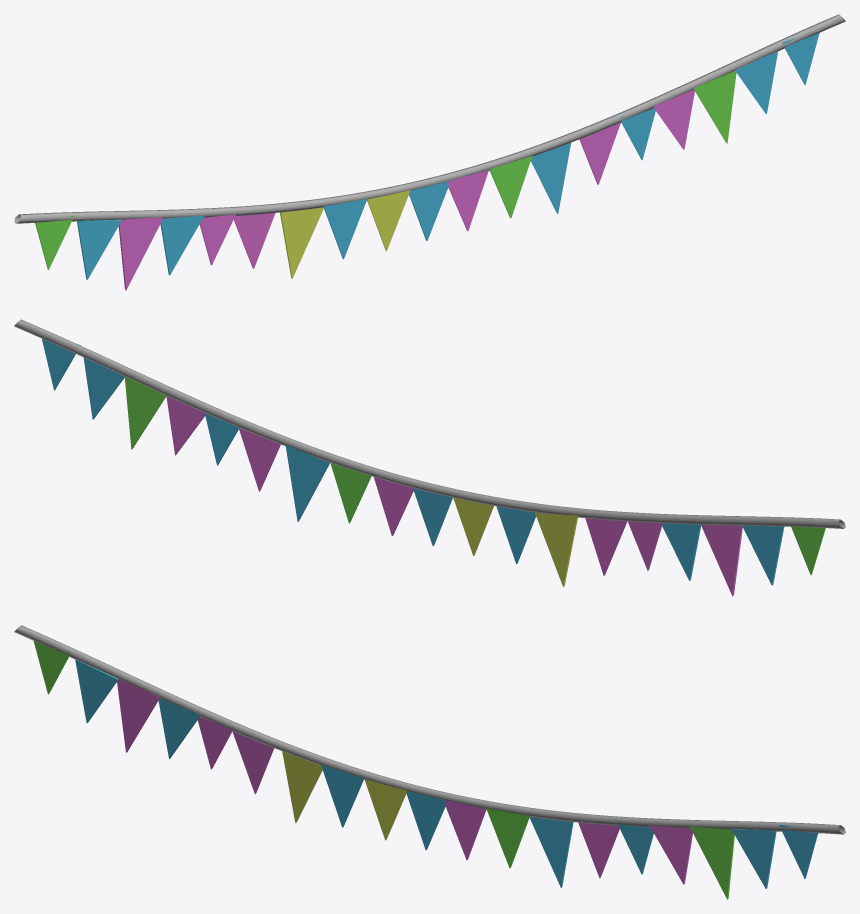
Rendered from DecoLicorne.fbx.
3 views of the same model, one above another, from view 1: azimuth 30°, elevation 25°; view 2: azimuth 150°, elevation 25°; view 3: azimuth 330°, elevation 25° (orthographic).
Parts seen in each view (by area): view 1: Cube.015; view 2: Cube.015; view 3: Cube.015.
Boxes of the visible parts, bbox=[...] form: Cube.015: bbox=[14, 14, 845, 290]; Cube.015: bbox=[14, 319, 845, 596]; Cube.015: bbox=[14, 625, 845, 899].
Bounding box in the file's own units: 854 × 130 × 8.99.
